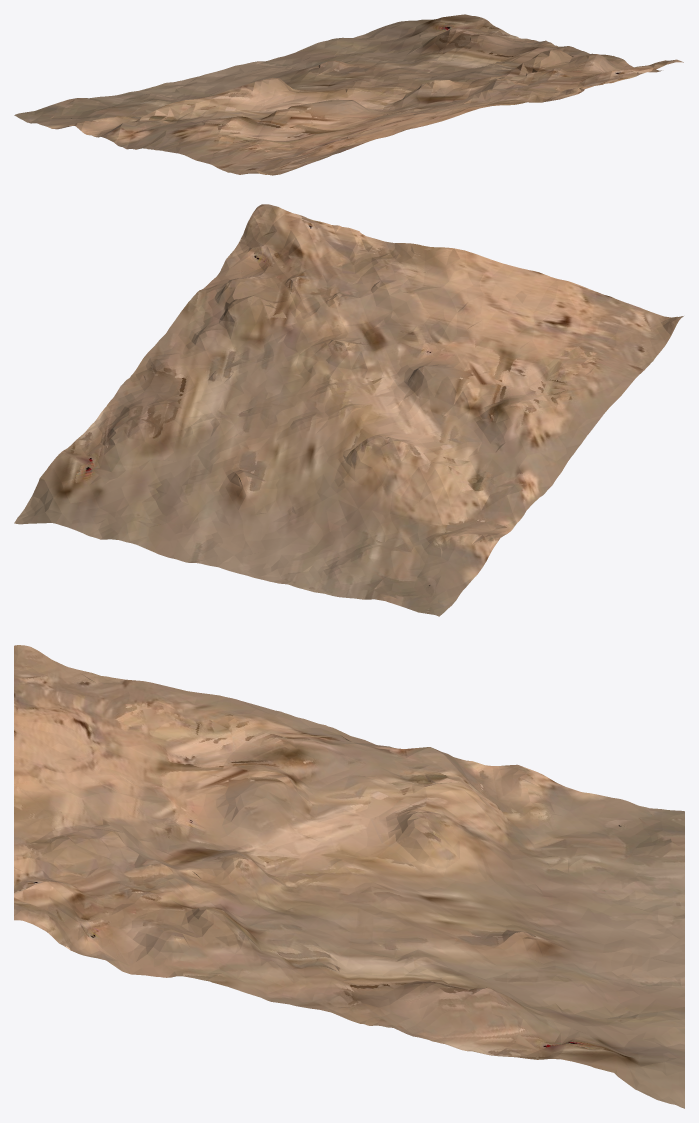
3 renders of one model, top to bottom at view 1: azimuth 30°, elevation 25°; view 2: azimuth 150°, elevation 25°; view 3: azimuth 270°, elevation 25°, orthographic. The views are drawn at different scales.
Size of the model in its own units: 1.04 by 0.336 by 1.04.
2 materials, 2 textured.
